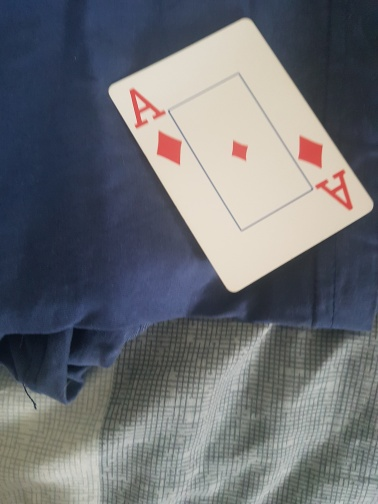ace: (107, 14, 373, 292)
